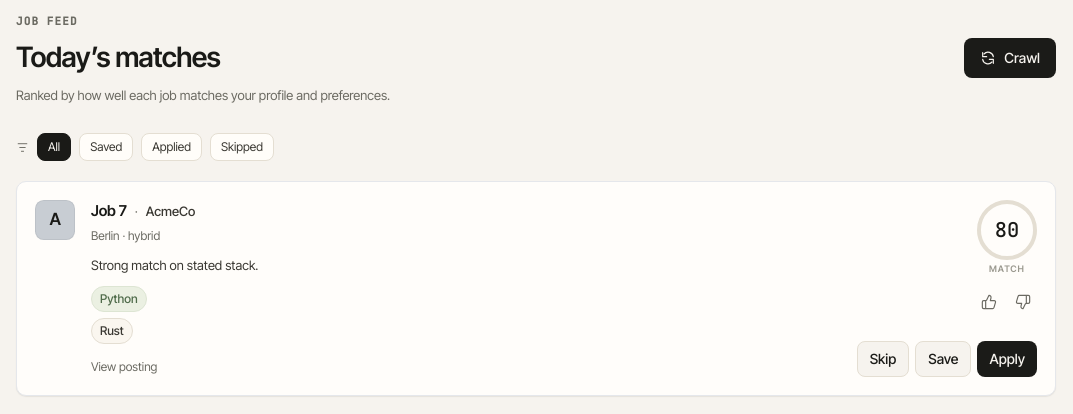
Scenario: FeedScreen › skipping a job removes it from the default feed
Click the button "Skip": (883,359) [857,341,909,377]
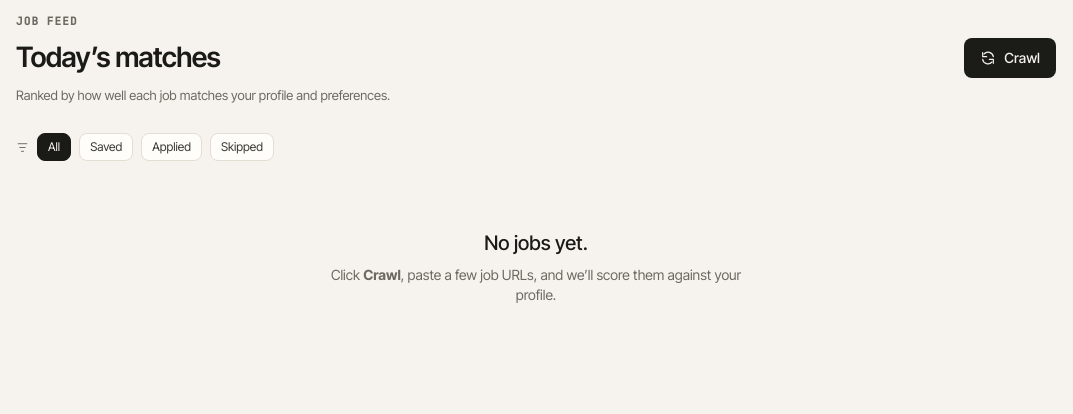
Expected: the element with test id "job-card-7" is gone
